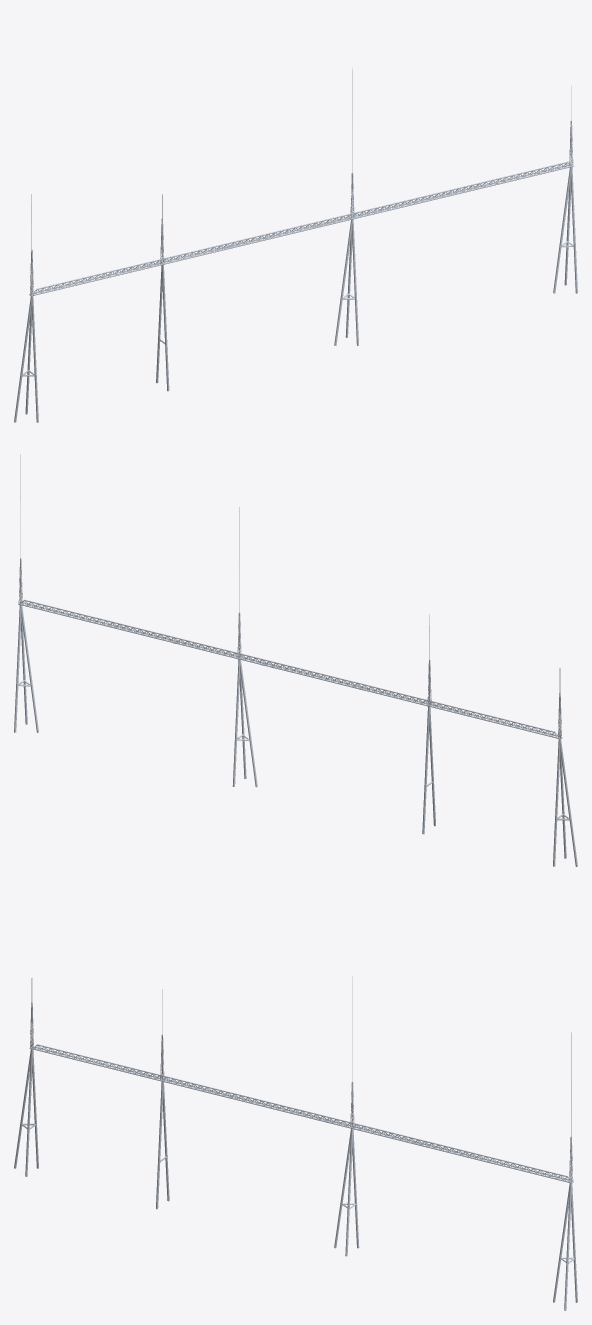
The model's file is substationShelf.glb.
The picture shows the model from 3 angles, top to bottom: view 1: azimuth 30°, elevation 25°; view 2: azimuth 150°, elevation 25°; view 3: azimuth 330°, elevation 25°; orthographic projection.
Visible parts, largest first — view 1: biandianzhanmax121-3072.003, biandianzhanmax121-3072.001, 对象014.001, biandianzhanmax121-3087.001, 对象014.002, biandianzhanmax121-3092.001; view 2: biandianzhanmax121-3072.001, biandianzhanmax121-3072.003, 对象014.002, 对象014.001, biandianzhanmax121-3087.001, biandianzhanmax121-3092.001; view 3: biandianzhanmax121-3072.003, biandianzhanmax121-3072.001, 对象014.002, 对象014.001, biandianzhanmax121-3087.001, biandianzhanmax121-3092.001.
Boxes of the visible parts, x1,y1,x2,y2 form: biandianzhanmax121-3072.003: [120, 161, 573, 274]; biandianzhanmax121-3072.001: [32, 183, 484, 295]; 对象014.001: [334, 67, 358, 345]; biandianzhanmax121-3087.001: [14, 194, 38, 422]; 对象014.002: [553, 86, 577, 293]; biandianzhanmax121-3092.001: [156, 194, 169, 391]; biandianzhanmax121-3072.001: [107, 621, 558, 738]; biandianzhanmax121-3072.003: [18, 599, 471, 715]; 对象014.002: [14, 454, 38, 732]; 对象014.001: [232, 507, 257, 787]; biandianzhanmax121-3087.001: [553, 668, 577, 866]; biandianzhanmax121-3092.001: [422, 614, 435, 834]; biandianzhanmax121-3072.003: [119, 1066, 571, 1182]; biandianzhanmax121-3072.001: [31, 1044, 484, 1160]; 对象014.002: [553, 1032, 577, 1310]; 对象014.001: [334, 976, 359, 1256]; biandianzhanmax121-3087.001: [14, 978, 38, 1176]; biandianzhanmax121-3092.001: [156, 989, 169, 1209].
Size of the model in its own units: 85.29 by 40.27 by 3.98.
